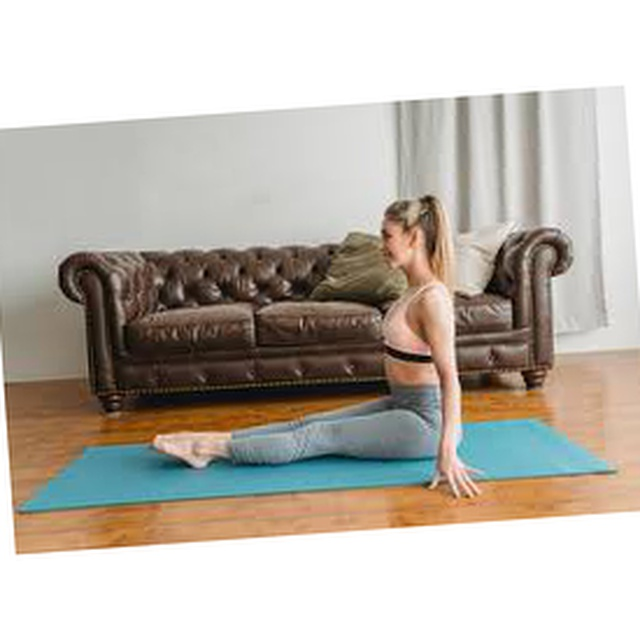Staff_Pose: (150, 194, 491, 502)
